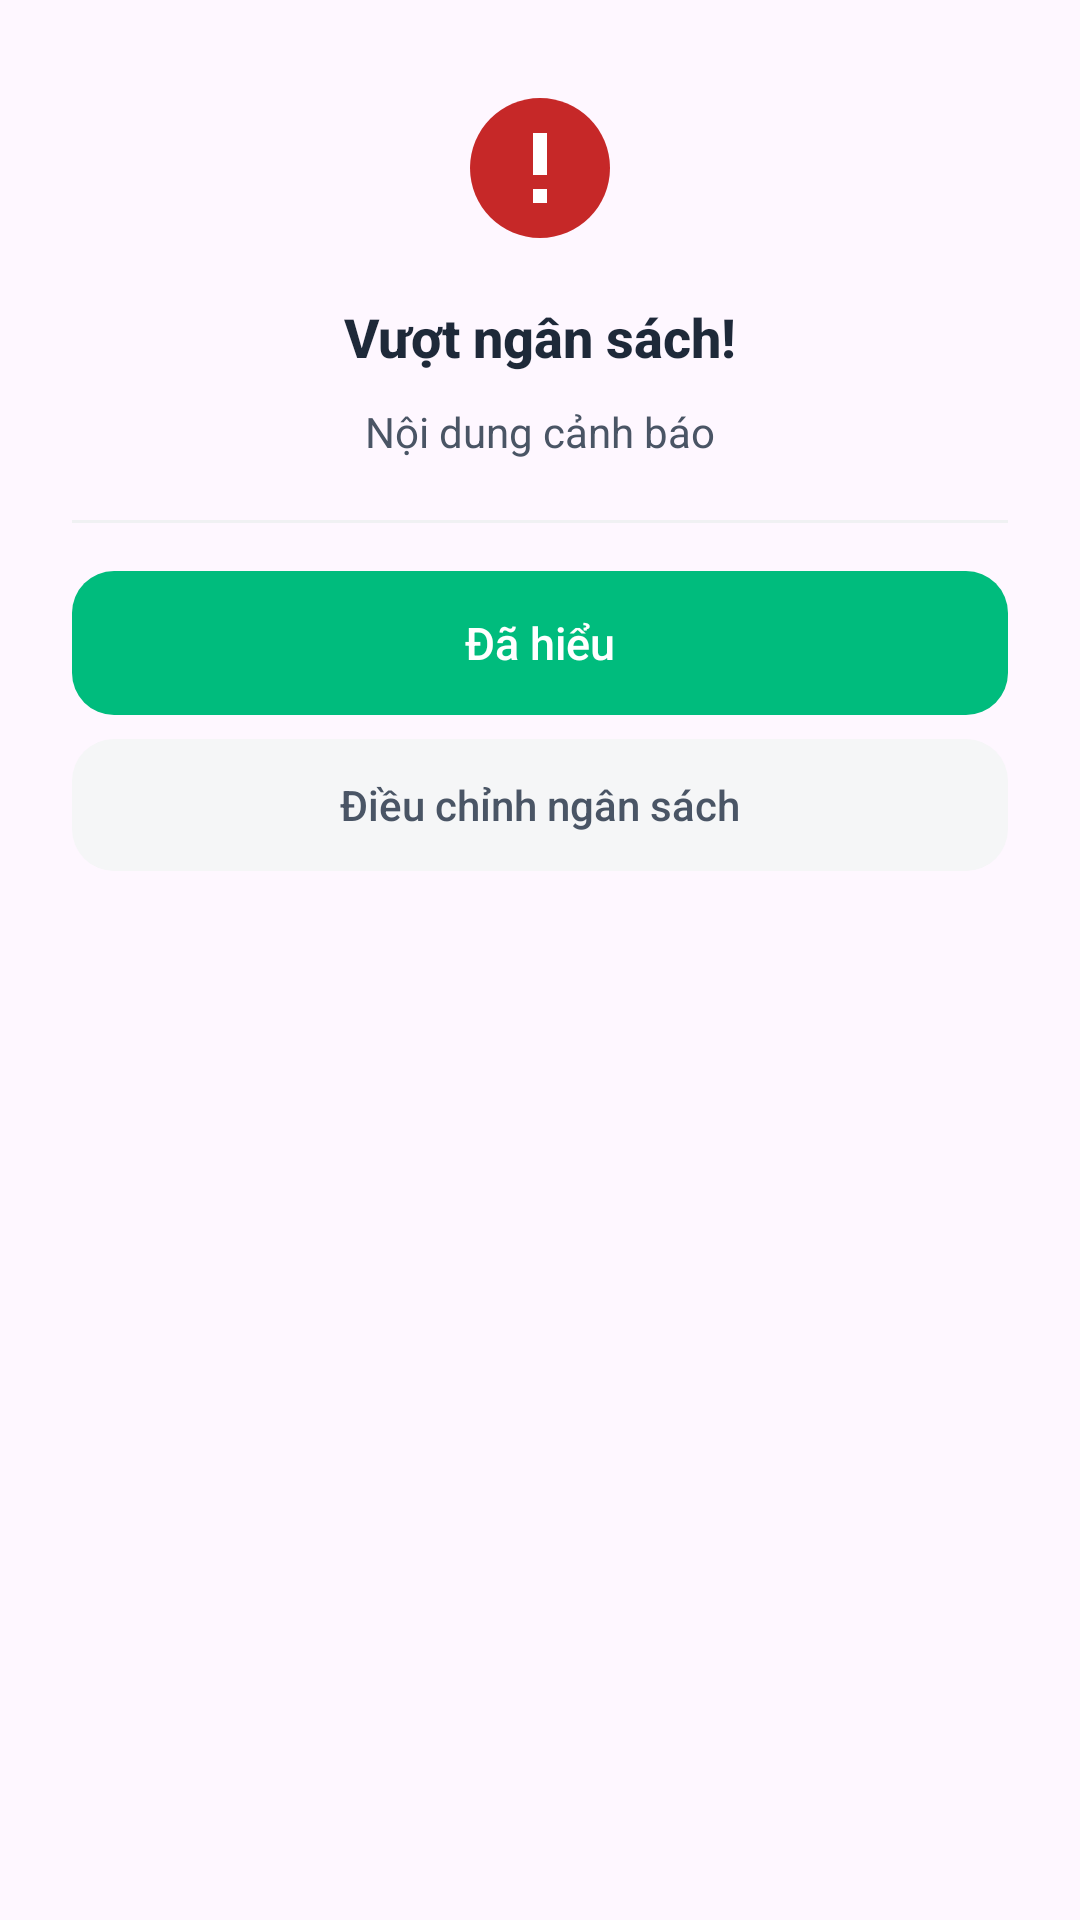

Icons on this 1080×1920 Android screen, each with the point to tap as point (x, y):
budget danger: point (540, 168)
